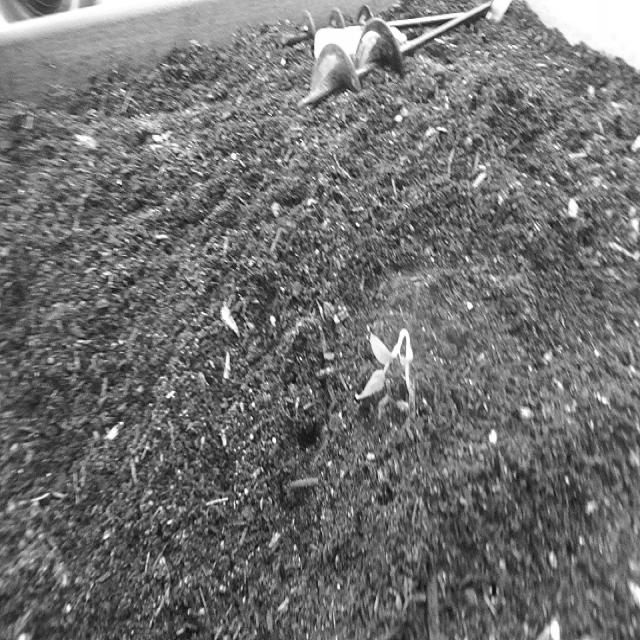Unhealthy: (350, 320, 421, 413)
